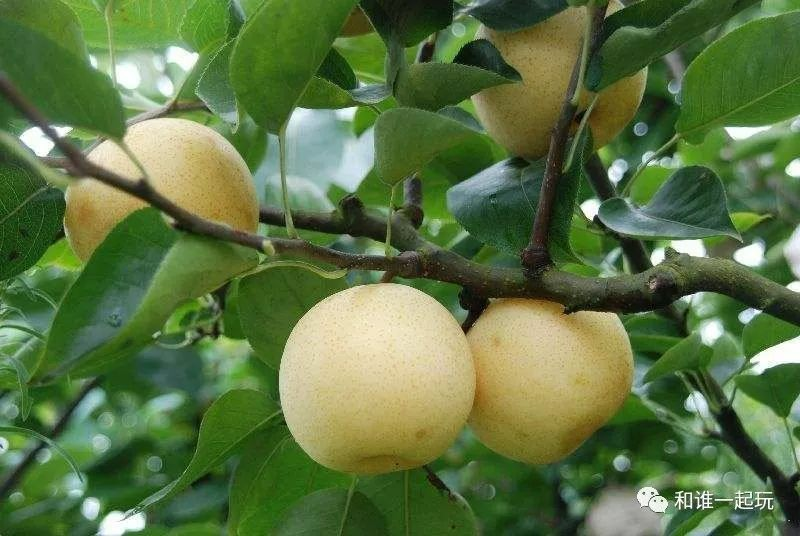pear: (278, 284, 476, 474), (63, 116, 258, 287), (463, 282, 634, 466), (473, 1, 647, 155)
